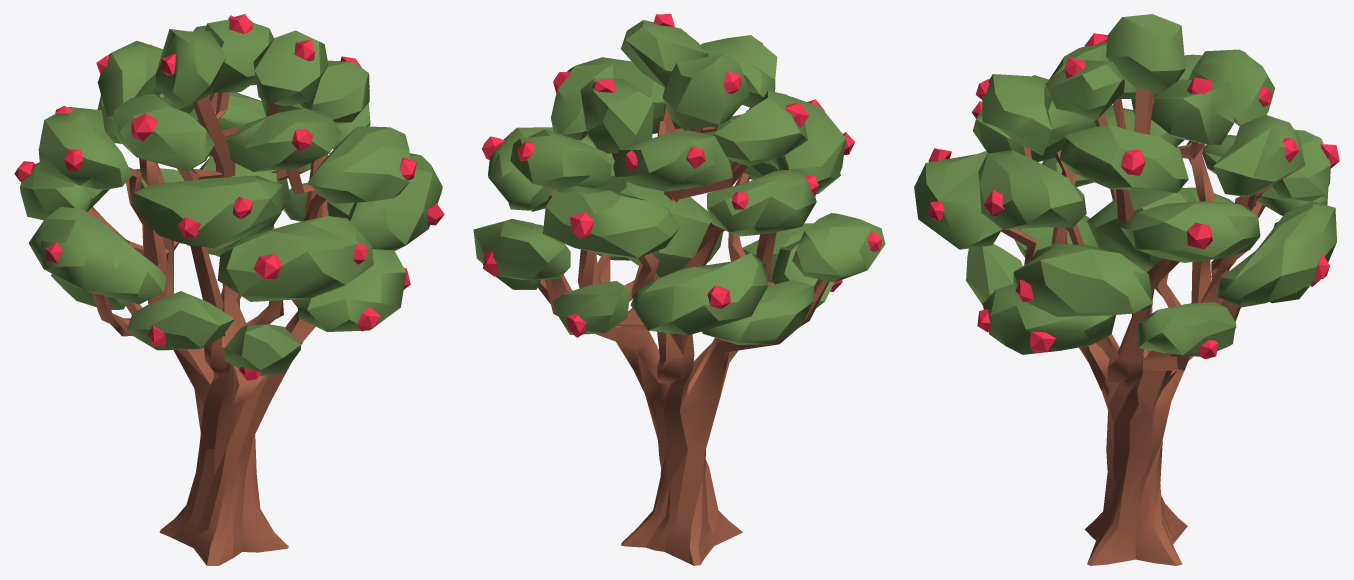
File: Tree_1_Low_WF.fbx
3 renders of one model, left to right at view 1: azimuth 30°, elevation 25°; view 2: azimuth 150°, elevation 25°; view 3: azimuth 270°, elevation 25°, orthographic. The views are drawn at different scales.
Parts seen in each view (by area): view 1: Tree_1_Low_WF; view 2: Tree_1_Low_WF; view 3: Tree_1_Low_WF.
Boxes of the visible parts, box(x1,y1,x2,y2) form: Tree_1_Low_WF: box(14, 14, 444, 565); Tree_1_Low_WF: box(473, 14, 885, 565); Tree_1_Low_WF: box(914, 14, 1339, 565).
Size of the model in its own units: 161 by 208 by 157.
